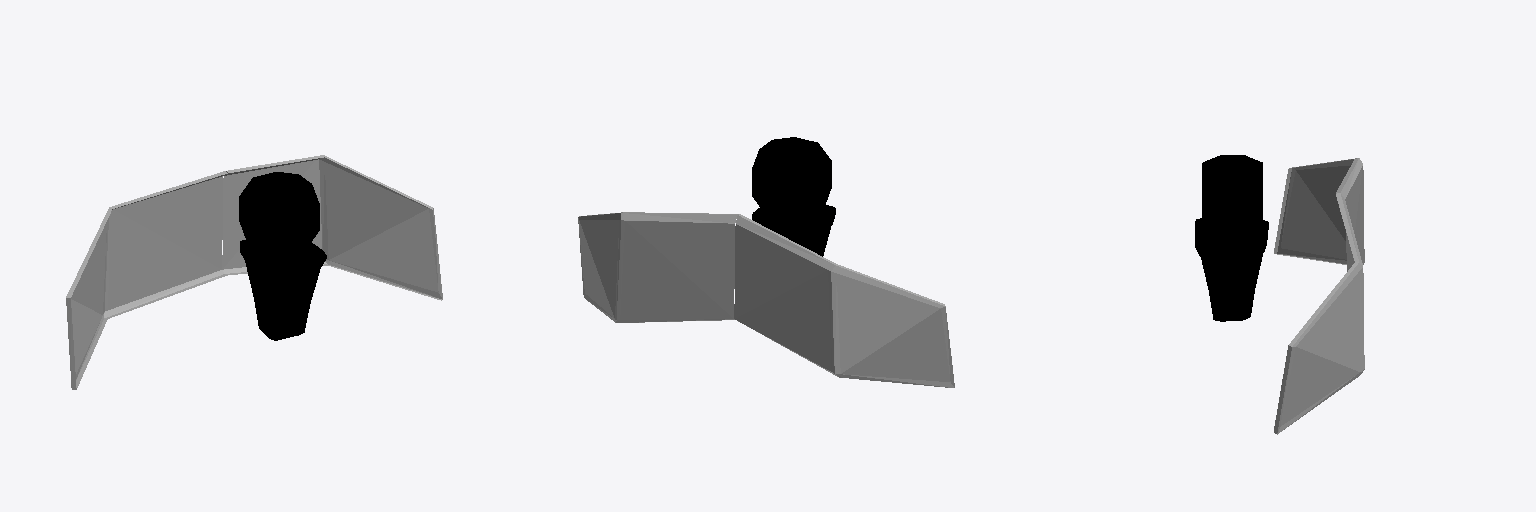
Rendered from Back_Upper.obj.
3 views of the same model, side by side, from view 1: azimuth 30°, elevation 25°; view 2: azimuth 150°, elevation 25°; view 3: azimuth 270°, elevation 25° (orthographic).
Parts seen in each view (by area): view 1: back_upper, joint_backbone_3; view 2: back_upper, joint_backbone_3; view 3: back_upper, joint_backbone_3.
Boxes of the visible parts, x1=… form: back_upper: x1=66, y1=155, x2=442, y2=389; joint_backbone_3: x1=239, y1=172, x2=326, y2=340; back_upper: x1=578, y1=212, x2=954, y2=387; joint_backbone_3: x1=752, y1=137, x2=835, y2=256; back_upper: x1=1274, y1=158, x2=1364, y2=434; joint_backbone_3: x1=1195, y1=155, x2=1268, y2=321.
Size of the model in its own units: 2.58 by 1.17 by 1.02.